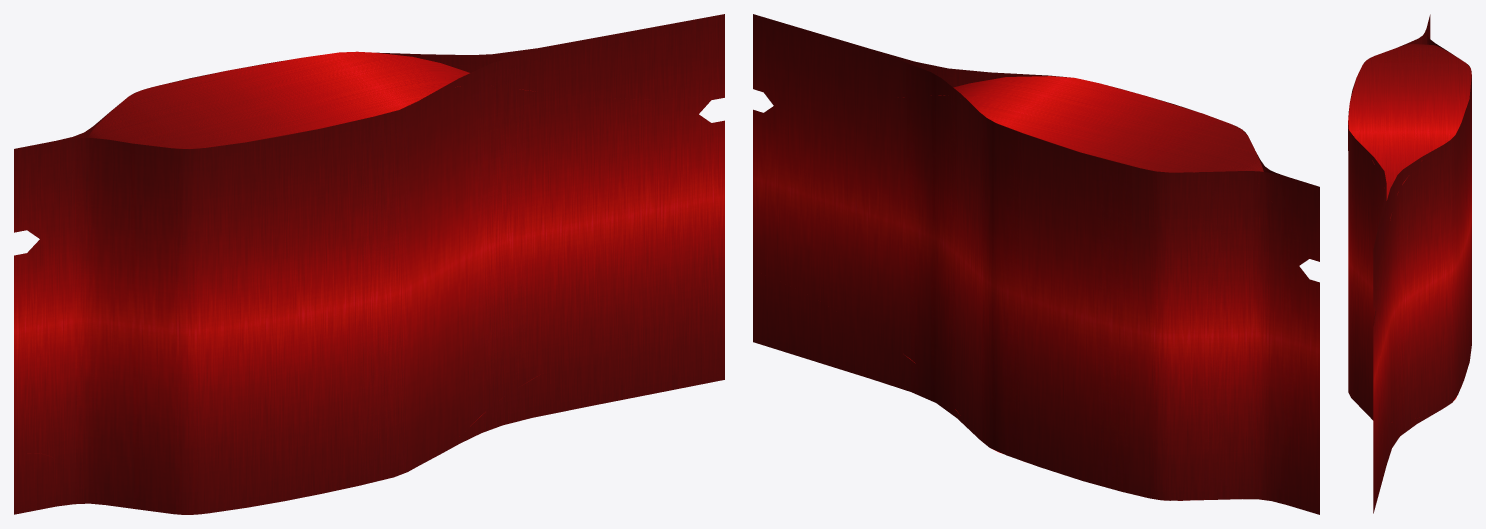
The picture shows the model from 3 angles, left to right: view 1: azimuth 30°, elevation 25°; view 2: azimuth 150°, elevation 25°; view 3: azimuth 270°, elevation 25°; orthographic projection. The views are drawn at different scales.
Visible parts, largest first — view 1: DirectConnectNode_80_DC_Shell; view 2: DirectConnectNode_80_DC_Shell; view 3: DirectConnectNode_80_DC_Shell.
Boxes of the visible parts, x1,y1,x2,y2 form: DirectConnectNode_80_DC_Shell: [14, 14, 724, 514]; DirectConnectNode_80_DC_Shell: [753, 14, 1319, 514]; DirectConnectNode_80_DC_Shell: [1348, 14, 1471, 513].
Size of the model in its own units: 103 by 53.56 by 22.72.
1 material, 1 textured.
